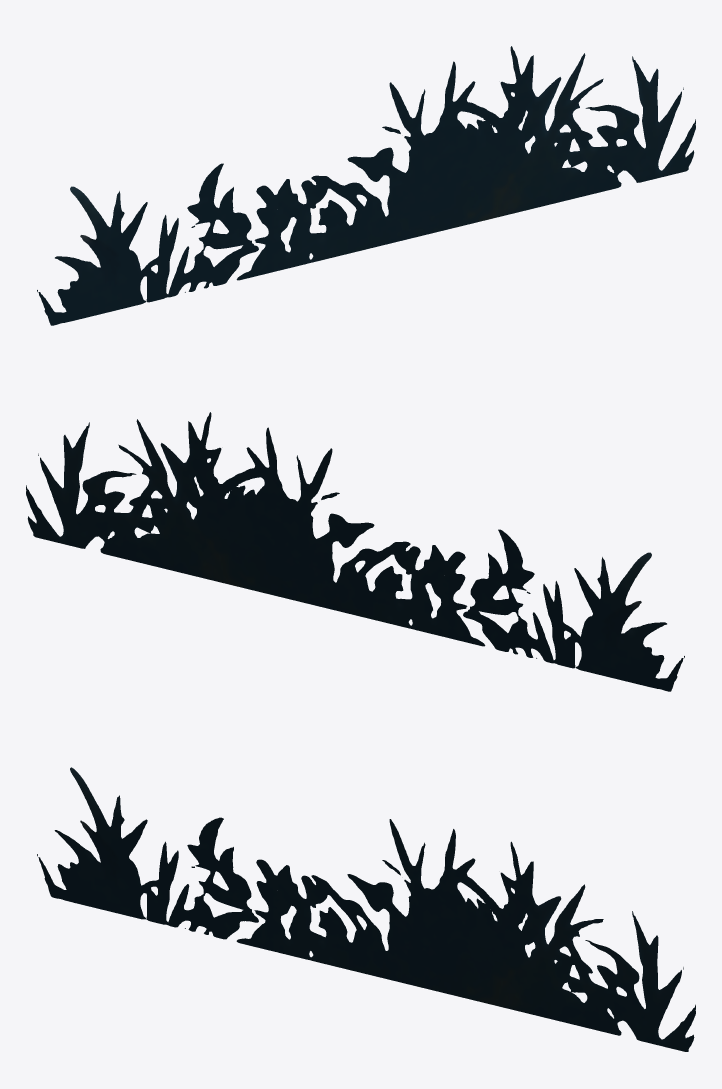
Rendered from HuBian_NightZhiwu11_fbx.FBX.
The picture shows the model from 3 angles, top to bottom: view 1: azimuth 30°, elevation 25°; view 2: azimuth 150°, elevation 25°; view 3: azimuth 330°, elevation 25°; orthographic projection.
Visible parts, largest first — view 1: Object033; view 2: Object033; view 3: Object033.
Part boxes in pixels (<box>): Object033: <box>37,46,695,325</box>; Object033: <box>26,412,684,691</box>; Object033: <box>37,767,695,1051</box>.
Size of the model in its own units: 2.87 by 0.8012 by 6.15e-07.
1 material, 1 textured.
